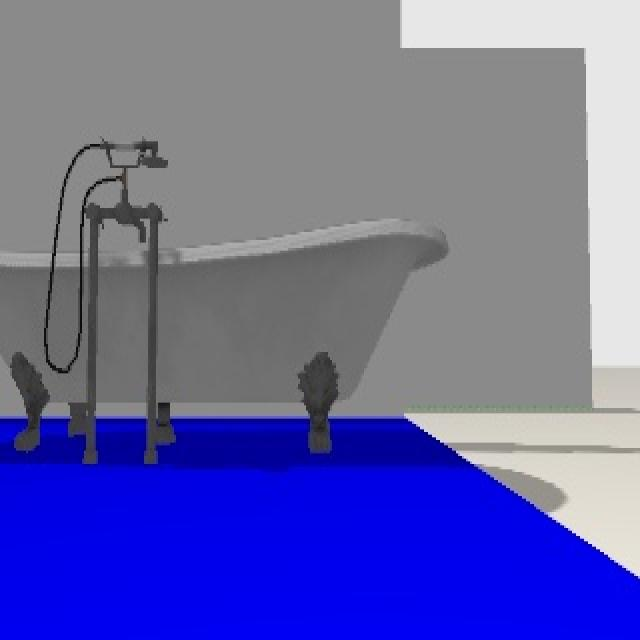bathtub: (0, 134, 451, 463)
